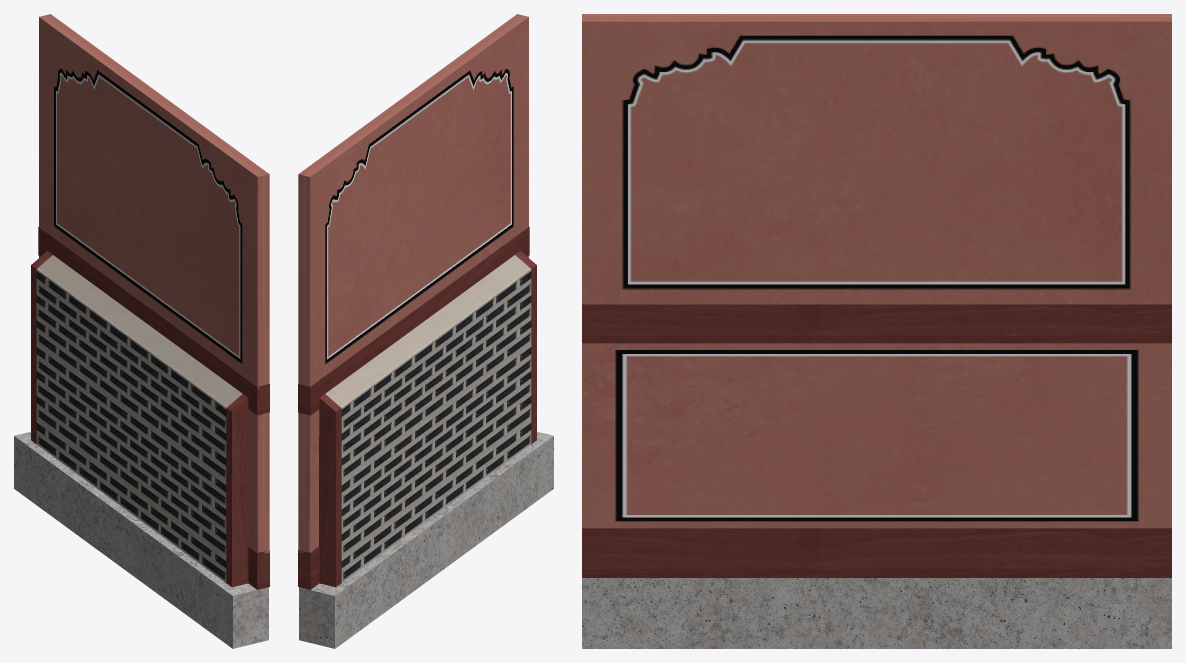
Rendered from SM_Wall07E.fbx.
3 views of the same model, side by side, from view 1: azimuth 30°, elevation 25°; view 2: azimuth 150°, elevation 25°; view 3: azimuth 270°, elevation 25° (orthographic). The views are drawn at different scales.
Parts seen in each view (by area): view 1: SM_Wall07E; view 2: SM_Wall07E; view 3: SM_Wall07E.
Part boxes in pixels (box(x1,y1,x2,y2)): SM_Wall07E: box(14, 14, 269, 648); SM_Wall07E: box(298, 14, 553, 648); SM_Wall07E: box(582, 14, 1171, 648).
Size of the model in its own units: 26.42 by 270 by 317.
